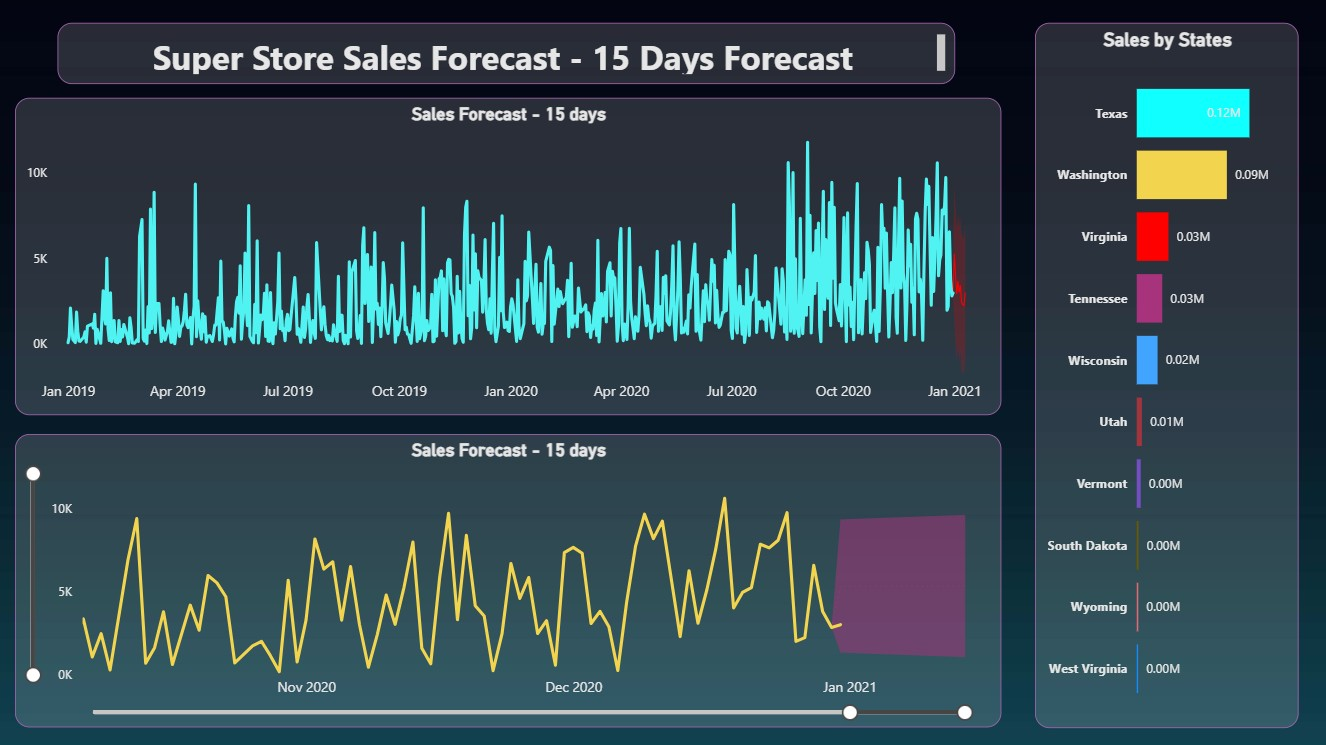

This screenshot's page, from the dashboard's own definition file:
{"tool":"powerbi","page":{"name":"Page 2","canvas":[1280,720],"ordinal":1},"visuals":[{"type":"lineChart","title":"Sales Forecast - 15 days","fields":{"Y":["Sum(SuperStore_Sales_Dataset.Sales)"],"Category":["SuperStore_Sales_Dataset.Order Date.Variation.Date Hierarchy.Year","SuperStore_Sales_Dataset.Order Date.Variation.Date Hierarchy.Quarter","SuperStore_Sales_Dataset.Order Date.Variation.Date Hierarchy.Month","SuperStore_Sales_Dataset.Order Date.Variation.Date Hierarchy.Day"]},"box":[14.5,419.8,951.9,283.5],"z":0},{"type":"lineChart","title":"Sales Forecast - 15 days","fields":{"Category":["SuperStore_Sales_Dataset.Order Date.Variation.Date Hierarchy.Year","SuperStore_Sales_Dataset.Order Date.Variation.Date Hierarchy.Quarter","SuperStore_Sales_Dataset.Order Date.Variation.Date Hierarchy.Month","SuperStore_Sales_Dataset.Order Date.Variation.Date Hierarchy.Day"],"Y":["Sum(SuperStore_Sales_Dataset.Sales)"]},"box":[14.5,95.3,951.9,306.4],"z":1000},{"type":"clusteredBarChart","title":"Sales by States","fields":{"Y":["Sum(SuperStore_Sales_Dataset.Sales)"],"Category":["SuperStore_Sales_Dataset.State"]},"box":[998.9,22.9,254.6,680.4],"z":2000},{"type":"textbox","box":[55.5,22.9,866.2,59.1],"z":3000}]}

Visuals, with their boxes in screenshot pixels (x1, y1, x2, y2), scaled from the page's 1280x720 canvas onto the 1326x745 screenshot:
"Sales Forecast - 15 days" lineChart: [x1=15, y1=434, x2=1001, y2=728]
"Sales Forecast - 15 days" lineChart: [x1=15, y1=99, x2=1001, y2=416]
"Sales by States" clusteredBarChart: [x1=1035, y1=24, x2=1299, y2=728]
textbox: [x1=57, y1=24, x2=955, y2=85]
